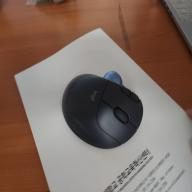mouse: (49, 57, 149, 149)
